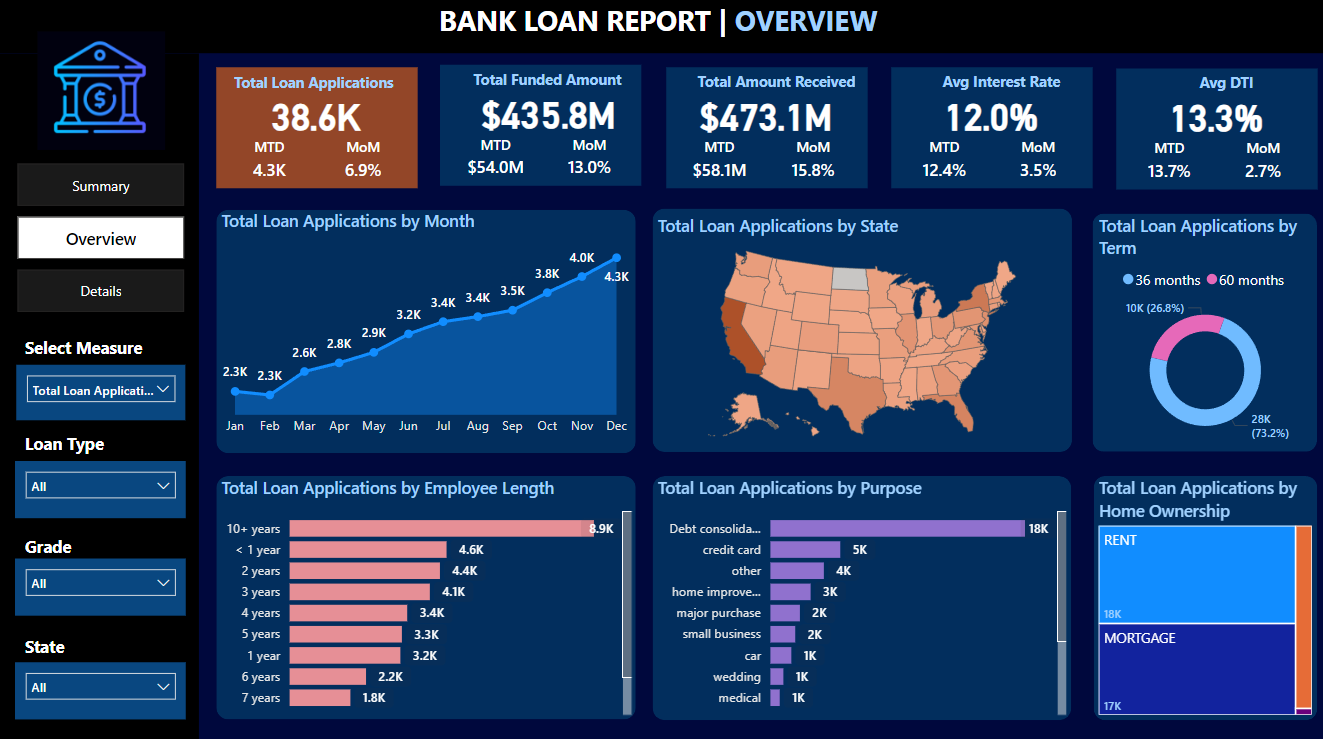

The dashboard page shown, as its layout file describes it:
{"tool":"powerbi","page":{"name":"Overview","canvas":[1280,720],"ordinal":1},"visuals":[{"type":"shape","box":[0,0,1280,55],"z":0},{"type":"slicer","fields":{"Values":["bank_loan_data.address_state"]},"box":[15,643.3,165,55],"z":0,"group":"g7"},{"type":"shape","box":[0,55.5,192,665.6],"z":1000},{"type":"textbox","box":[15,611.6,146.7,31.7],"z":1000,"group":"g7"},{"type":"shape","box":[0,0,1280,55.5],"z":2000},{"type":"slicer","fields":{"Values":["bank_loan_data.grade"]},"box":[15,543.3,165,55],"z":2000,"group":"g7"},{"type":"textbox","box":[418.3,0,445,55],"z":3000},{"type":"textbox","box":[15,515,146.7,31.7],"z":3000,"group":"g7"},{"type":"shape","box":[425,67.1,194.3,117.1],"z":4000,"group":"g2"},{"type":"group","id":"g1","title":"Group 1","box":[208.8,68.4,194.8,117.1],"z":4000},{"type":"shape","box":[208.8,68.6,194.8,116.9],"z":4000,"group":"g1"},{"type":"shape","box":[643.3,68.8,194.8,116.9],"z":4000,"group":"g3"},{"type":"shape","box":[860.2,68.8,194.8,116.9],"z":4000,"group":"g5"},{"type":"shape","box":[1077.1,70.3,194.8,116.9],"z":4000,"group":"g4"},{"type":"slicer","fields":{"Values":["bank_loan_data.Loan Type"]},"box":[15,448.3,165,55],"z":4000,"group":"g7"},{"type":"group","id":"g2","title":"Group 1","box":[425,66.9,194.3,117.3],"z":5000},{"type":"card","title":"MTD","fields":{"Values":["bank_loan_data.MTD Funded Application"]},"box":[444.2,134.4,68.8,48.8],"z":5000,"group":"g2"},{"type":"card","title":"MTD","fields":{"Values":["bank_loan_data.MTD Loan Application"]},"box":[225.7,135.7,68.8,48.8],"z":5000,"group":"g1"},{"type":"card","title":"MTD","fields":{"Values":["bank_loan_data.MTD Total Amount Recieved"]},"box":[660.2,135.9,68.8,48.8],"z":5000,"group":"g3"},{"type":"card","title":"MTD","fields":{"Values":["bank_loan_data.MTD Avg Int Rate"]},"box":[877.1,135.9,68.8,48.8],"z":5000,"group":"g5"},{"type":"card","title":"MTD","fields":{"Values":["bank_loan_data.MTD Avg DTI"]},"box":[1094,137.4,68.8,48.8],"z":5000,"group":"g4"},{"type":"textbox","box":[15,416.6,146.7,31.7],"z":5000,"group":"g7"},{"type":"textbox","box":[439.5,66.9,178.3,30],"z":6000,"group":"g2"},{"type":"textbox","box":[660.2,67.1,178.8,30],"z":6000,"group":"g3"},{"type":"textbox","box":[877.1,67.1,178.8,30],"z":6000,"group":"g5"},{"type":"textbox","box":[220.6,68.4,178.6,30],"z":6000,"group":"g1"},{"type":"textbox","box":[1094,68.6,178.8,30],"z":6000,"group":"g4"},{"type":"shape","box":[208.6,205.7,405,235],"z":6000},{"type":"slicer","fields":{"Values":["Select Measure.Select Measure"]},"box":[16.7,356.1,163.3,53.3],"z":6000,"group":"g7"},{"type":"group","id":"g3","title":"Group 1","box":[643.3,67.1,195.7,118.6],"z":7000},{"type":"card","fields":{"Values":["bank_loan_data.Total Funded Amount"]},"box":[450,81.7,158.9,61.1],"z":7000,"group":"g6"},{"type":"card","fields":{"Values":["bank_loan_data.Total Loan Applications"]},"box":[225.7,83.2,158.8,61.2],"z":7000,"group":"g1"},{"type":"card","fields":{"Values":["bank_loan_data.Total Amount Received"]},"box":[660.2,83.3,158.8,61.2],"z":7000,"group":"g3"},{"type":"card","fields":{"Values":["bank_loan_data.Avg Interest Rate"]},"box":[877.1,83.3,158.8,61.2],"z":7000,"group":"g5"},{"type":"card","fields":{"Values":["bank_loan_data.Avg DTI"]},"box":[1094,84.8,158.8,61.2],"z":7000,"group":"g4"},{"type":"textbox","box":[15,323.3,146.7,31.7],"z":7000,"group":"g7"},{"type":"group","id":"g4","title":"Group 1","box":[1077.1,68.6,194.3,118.6],"z":8000},{"type":"card","title":"MoM","fields":{"Values":["bank_loan_data.Mom Total Funded Amount"]},"box":[534.2,134.4,68.8,48.8],"z":8000,"group":"g2"},{"type":"card","title":"MoM","fields":{"Values":["bank_loan_data.Mom Loan Applications"]},"box":[315.7,135.7,68.8,48.8],"z":8000,"group":"g1"},{"type":"card","title":"MoM","fields":{"Values":["bank_loan_data.Mom Total Amount Received"]},"box":[750.2,135.9,68.8,48.8],"z":8000,"group":"g3"},{"type":"card","title":"MoM","fields":{"Values":["bank_loan_data.MoM Avg Int Rate"]},"box":[967.1,135.9,68.8,48.8],"z":8000,"group":"g5"},{"type":"card","title":"MoM","fields":{"Values":["bank_loan_data.MoM Avg DTI"]},"box":[1184,137.4,68.8,48.8],"z":8000,"group":"g4"},{"type":"group","id":"g5","title":"Group 1","box":[860.2,67.1,195.7,118.6],"z":9000},{"type":"group","id":"g6","title":"Group 1","box":[450,81.7,158.3,61.7],"z":10000},{"type":"areaChart","fields":{"Y":["bank_loan_data.Total Loan Applications"],"Category":["Date.Month"]},"box":[208.3,205,405,228.3],"z":11000},{"type":"group","id":"g7","title":"Group 2","box":[15,323.3,165,375],"z":12000},{"type":"shape","box":[208.3,463.3,405,235],"z":13000},{"type":"shape","box":[630,205,405,235],"z":14000},{"type":"shapeMap","fields":{"Value":["bank_loan_data.Total Loan Applications"],"Category":["bank_loan_data.address_state"]},"box":[630,210,405,230],"z":15000},{"type":"shape","box":[1055,210,216.7,230],"z":16000},{"type":"donutChart","fields":{"Y":["bank_loan_data.Total Loan Applications"],"Category":["bank_loan_data.term"]},"box":[1055.7,210,215.7,230],"z":17000},{"type":"shape","box":[630,462.9,404.3,235.7],"z":18000},{"type":"shape","box":[1055.7,462.9,215.7,235.7],"z":19000},{"type":"barChart","fields":{"Y":["bank_loan_data.Total Loan Applications"],"Category":["bank_loan_data.emp_length"]},"box":[208.6,462.9,405.7,235.7],"z":20000},{"type":"image","box":[31.4,27.7,132.7,127.9],"z":21000},{"type":"barChart","fields":{"Y":["bank_loan_data.Total Loan Applications"],"Category":["bank_loan_data.purpose"]},"box":[630,462.9,404.3,235.7],"z":22000},{"type":"treemap","fields":{"Values":["bank_loan_data.Total Loan Applications"],"Group":["bank_loan_data.home_ownership"]},"box":[1055.7,462.9,215.7,235.7],"z":23000},{"type":"pageNavigator","box":[16.9,161.7,161.7,146],"z":24000}]}

Visuals, with their boxes in screenshot pixels (x1, y1, x2, y2), scaled from the page's 1280x720 canvas onto the 1323x739 screenshot:
shape: left=0, top=0, right=1322, bottom=56
slicer - bank_loan_data.address_state: left=16, top=660, right=186, bottom=717
shape: left=0, top=57, right=198, bottom=738
textbox: left=16, top=628, right=167, bottom=660
shape: left=0, top=0, right=1322, bottom=57
slicer - bank_loan_data.grade: left=16, top=558, right=186, bottom=614
textbox: left=432, top=0, right=892, bottom=56
textbox: left=16, top=529, right=167, bottom=561
shape: left=439, top=69, right=640, bottom=189
"Group 1" group: left=216, top=70, right=417, bottom=190
shape: left=216, top=70, right=417, bottom=190
shape: left=665, top=71, right=866, bottom=191
shape: left=889, top=71, right=1090, bottom=191
shape: left=1113, top=72, right=1315, bottom=192
slicer - bank_loan_data.Loan Type: left=16, top=460, right=186, bottom=517
"Group 1" group: left=439, top=69, right=640, bottom=189
"MTD" card: left=459, top=138, right=530, bottom=188
"MTD" card: left=233, top=139, right=304, bottom=189
"MTD" card: left=682, top=139, right=753, bottom=190
"MTD" card: left=907, top=139, right=978, bottom=190
"MTD" card: left=1131, top=141, right=1202, bottom=191
textbox: left=16, top=428, right=167, bottom=460
textbox: left=454, top=69, right=639, bottom=99
textbox: left=682, top=69, right=867, bottom=100
textbox: left=907, top=69, right=1091, bottom=100
textbox: left=228, top=70, right=413, bottom=101
textbox: left=1131, top=70, right=1316, bottom=101
shape: left=216, top=211, right=634, bottom=452
slicer - Select Measure.Select Measure: left=17, top=365, right=186, bottom=420
"Group 1" group: left=665, top=69, right=867, bottom=191
card - bank_loan_data.Total Funded Amount: left=465, top=84, right=629, bottom=147
card - bank_loan_data.Total Loan Applications: left=233, top=85, right=397, bottom=148
card - bank_loan_data.Total Amount Received: left=682, top=85, right=847, bottom=148
card - bank_loan_data.Avg Interest Rate: left=907, top=85, right=1071, bottom=148
card - bank_loan_data.Avg DTI: left=1131, top=87, right=1295, bottom=150
textbox: left=16, top=332, right=167, bottom=364
"Group 1" group: left=1113, top=70, right=1314, bottom=192
"MoM" card: left=552, top=138, right=623, bottom=188
"MoM" card: left=326, top=139, right=397, bottom=189
"MoM" card: left=775, top=139, right=847, bottom=190
"MoM" card: left=1000, top=139, right=1071, bottom=190
"MoM" card: left=1224, top=141, right=1295, bottom=191
"Group 1" group: left=889, top=69, right=1091, bottom=191
"Group 1" group: left=465, top=84, right=629, bottom=147
areaChart - bank_loan_data.Total Loan Applications x Date.Month: left=215, top=210, right=634, bottom=445
"Group 2" group: left=16, top=332, right=186, bottom=717
shape: left=215, top=476, right=634, bottom=717
shape: left=651, top=210, right=1070, bottom=452
shapeMap - bank_loan_data.Total Loan Applications x bank_loan_data.address_state: left=651, top=216, right=1070, bottom=452
shape: left=1090, top=216, right=1314, bottom=452
donutChart - bank_loan_data.Total Loan Applications x bank_loan_data.term: left=1091, top=216, right=1314, bottom=452
shape: left=651, top=475, right=1069, bottom=717
shape: left=1091, top=475, right=1314, bottom=717
barChart - bank_loan_data.Total Loan Applications x bank_loan_data.emp_length: left=216, top=475, right=635, bottom=717
image: left=32, top=28, right=170, bottom=160
barChart - bank_loan_data.Total Loan Applications x bank_loan_data.purpose: left=651, top=475, right=1069, bottom=717
treemap - bank_loan_data.Total Loan Applications x bank_loan_data.home_ownership: left=1091, top=475, right=1314, bottom=717
pageNavigator: left=17, top=166, right=185, bottom=316
